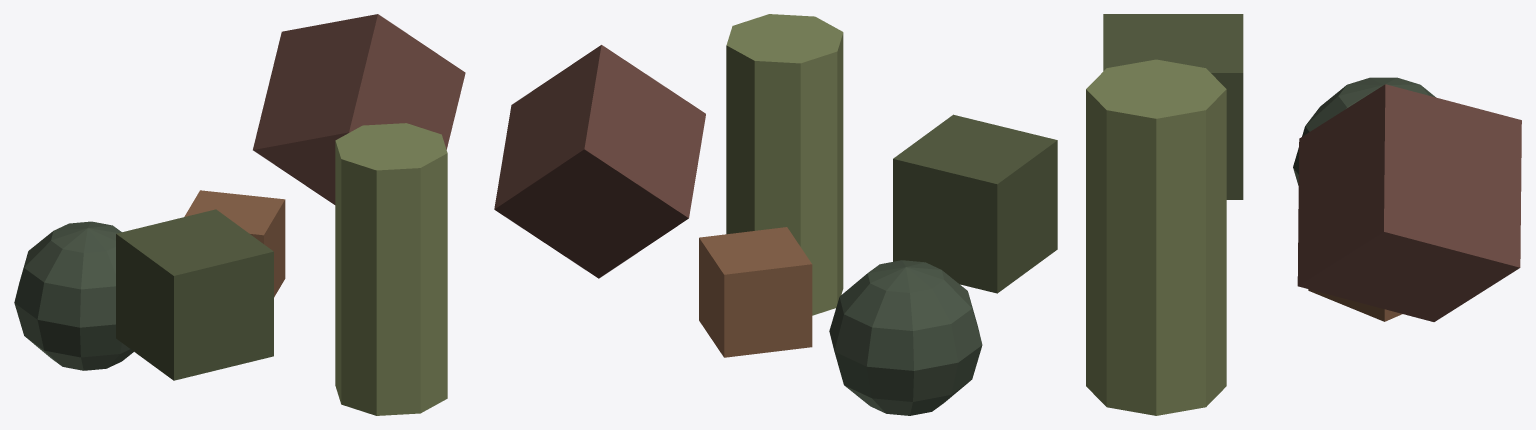
The picture shows the model from 3 angles, left to right: view 1: azimuth 30°, elevation 25°; view 2: azimuth 150°, elevation 25°; view 3: azimuth 270°, elevation 25°; orthographic projection. The views are drawn at different scales.
Parts seen in each view (by area): view 1: Meshes.002, Meshes.001; view 2: Meshes.002, Meshes.001; view 3: Meshes.002, Meshes.001.
Boxes of the visible parts, box(x1,y1,x2,y2) form: Meshes.002: box(116, 123, 447, 415); Meshes.001: box(14, 14, 465, 370); Meshes.002: box(699, 14, 1057, 357); Meshes.001: box(494, 45, 982, 415); Meshes.002: box(1086, 14, 1402, 415); Meshes.001: box(1293, 77, 1521, 321).
Size of the model in its own units: 3.1 by 1.95 by 2.2.
1 material, 1 textured.
